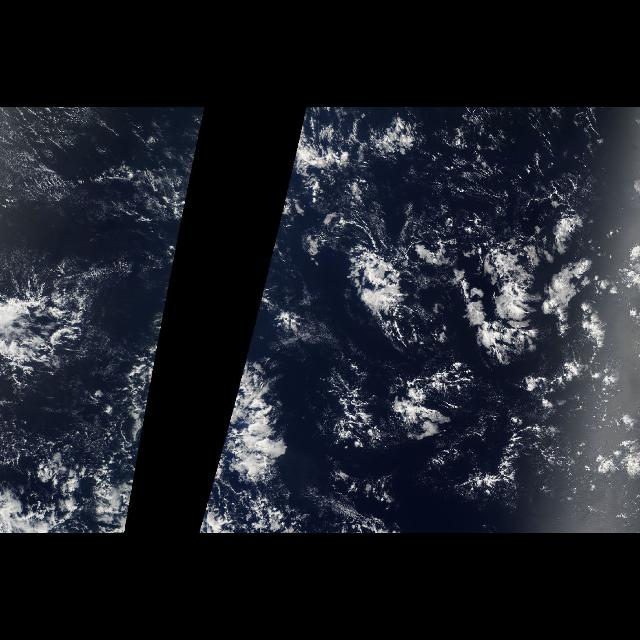Flower: (288, 117, 640, 486)
Gravel: (0, 413, 134, 532)
